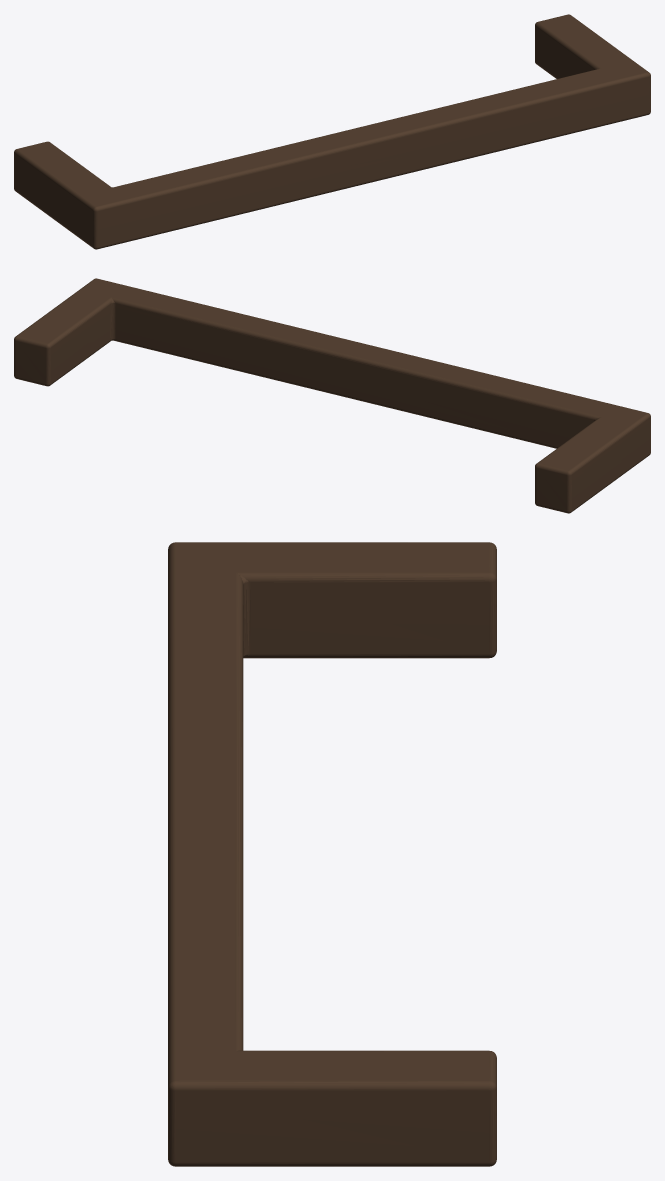
The model's file is eurofit-h-61415-128orb-v3.glb.
3 views of the same model, one above another, from view 1: azimuth 30°, elevation 25°; view 2: azimuth 150°, elevation 25°; view 3: azimuth 270°, elevation 25° (orthographic). The views are drawn at different scales.
Visible parts, largest first — view 1: Continuous U grip and legs; view 2: Continuous U grip and legs; view 3: Continuous U grip and legs.
Boxes of the visible parts, bbox=[...] form: Continuous U grip and legs: bbox=[14, 14, 650, 249]; Continuous U grip and legs: bbox=[14, 278, 650, 513]; Continuous U grip and legs: bbox=[168, 542, 496, 1166].
Bounding box in the file's own units: 0.137 × 0.01 × 0.035.
